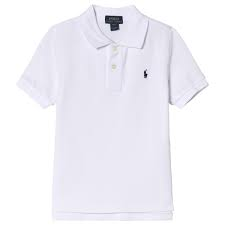C_polo shirt: (31, 11, 204, 219)
